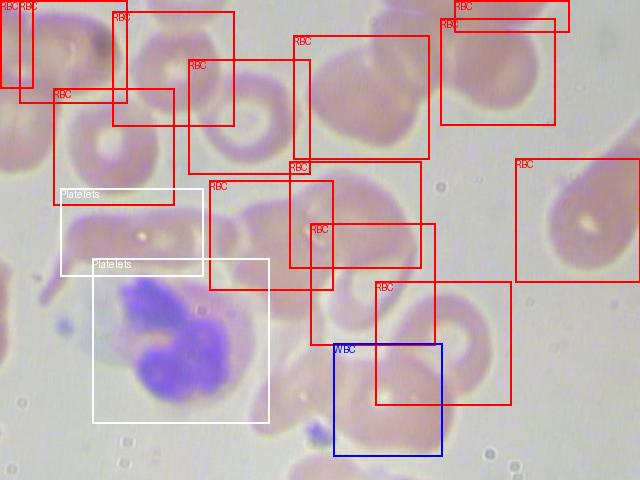Platelets: (92, 258, 269, 423), (60, 188, 203, 276)
RBC: (375, 281, 511, 405), (293, 35, 429, 159), (515, 158, 640, 282), (310, 223, 435, 345), (53, 88, 174, 205), (289, 161, 421, 268), (188, 59, 310, 174), (112, 11, 234, 126), (209, 180, 333, 290), (440, 18, 555, 125), (19, 0, 127, 103), (454, 0, 569, 32), (0, 0, 33, 88)
WBC: (333, 343, 442, 456)
